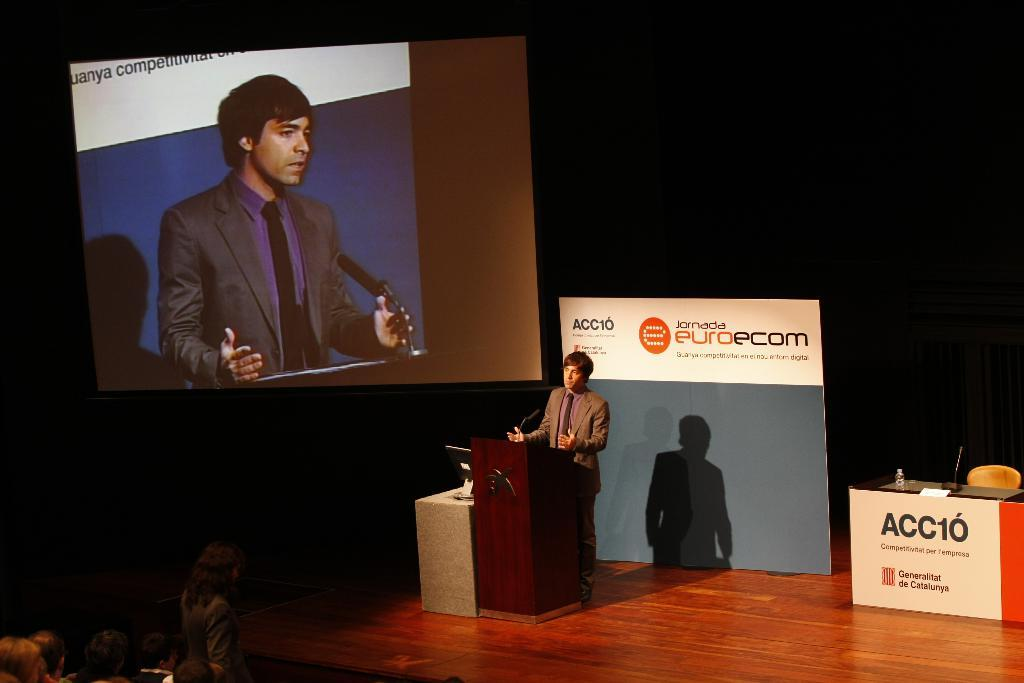Sem Máscara: (254, 109, 307, 183), (561, 364, 578, 384)
